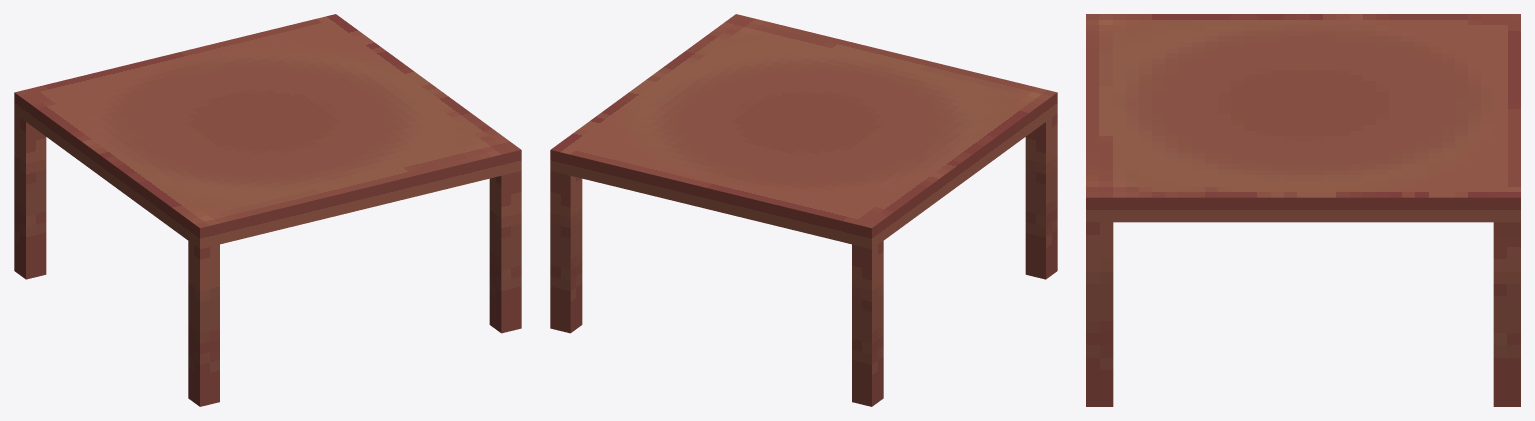
Rendered from TableTest.glb.
3 renders of one model, left to right at view 1: azimuth 30°, elevation 25°; view 2: azimuth 150°, elevation 25°; view 3: azimuth 270°, elevation 25°, orthographic. The views are drawn at different scales.
Parts seen in each view (by area): view 1: Cube.001; view 2: Cube.001; view 3: Cube.001.
Part boxes in pixels (x1=…): Cube.001: x1=14, y1=14, x2=521, y2=406; Cube.001: x1=550, y1=14, x2=1057, y2=406; Cube.001: x1=1086, y1=14, x2=1520, y2=406.
Size of the model in its own units: 2 by 1.06 by 2.
Materials: 1 (1 with a texture image).
